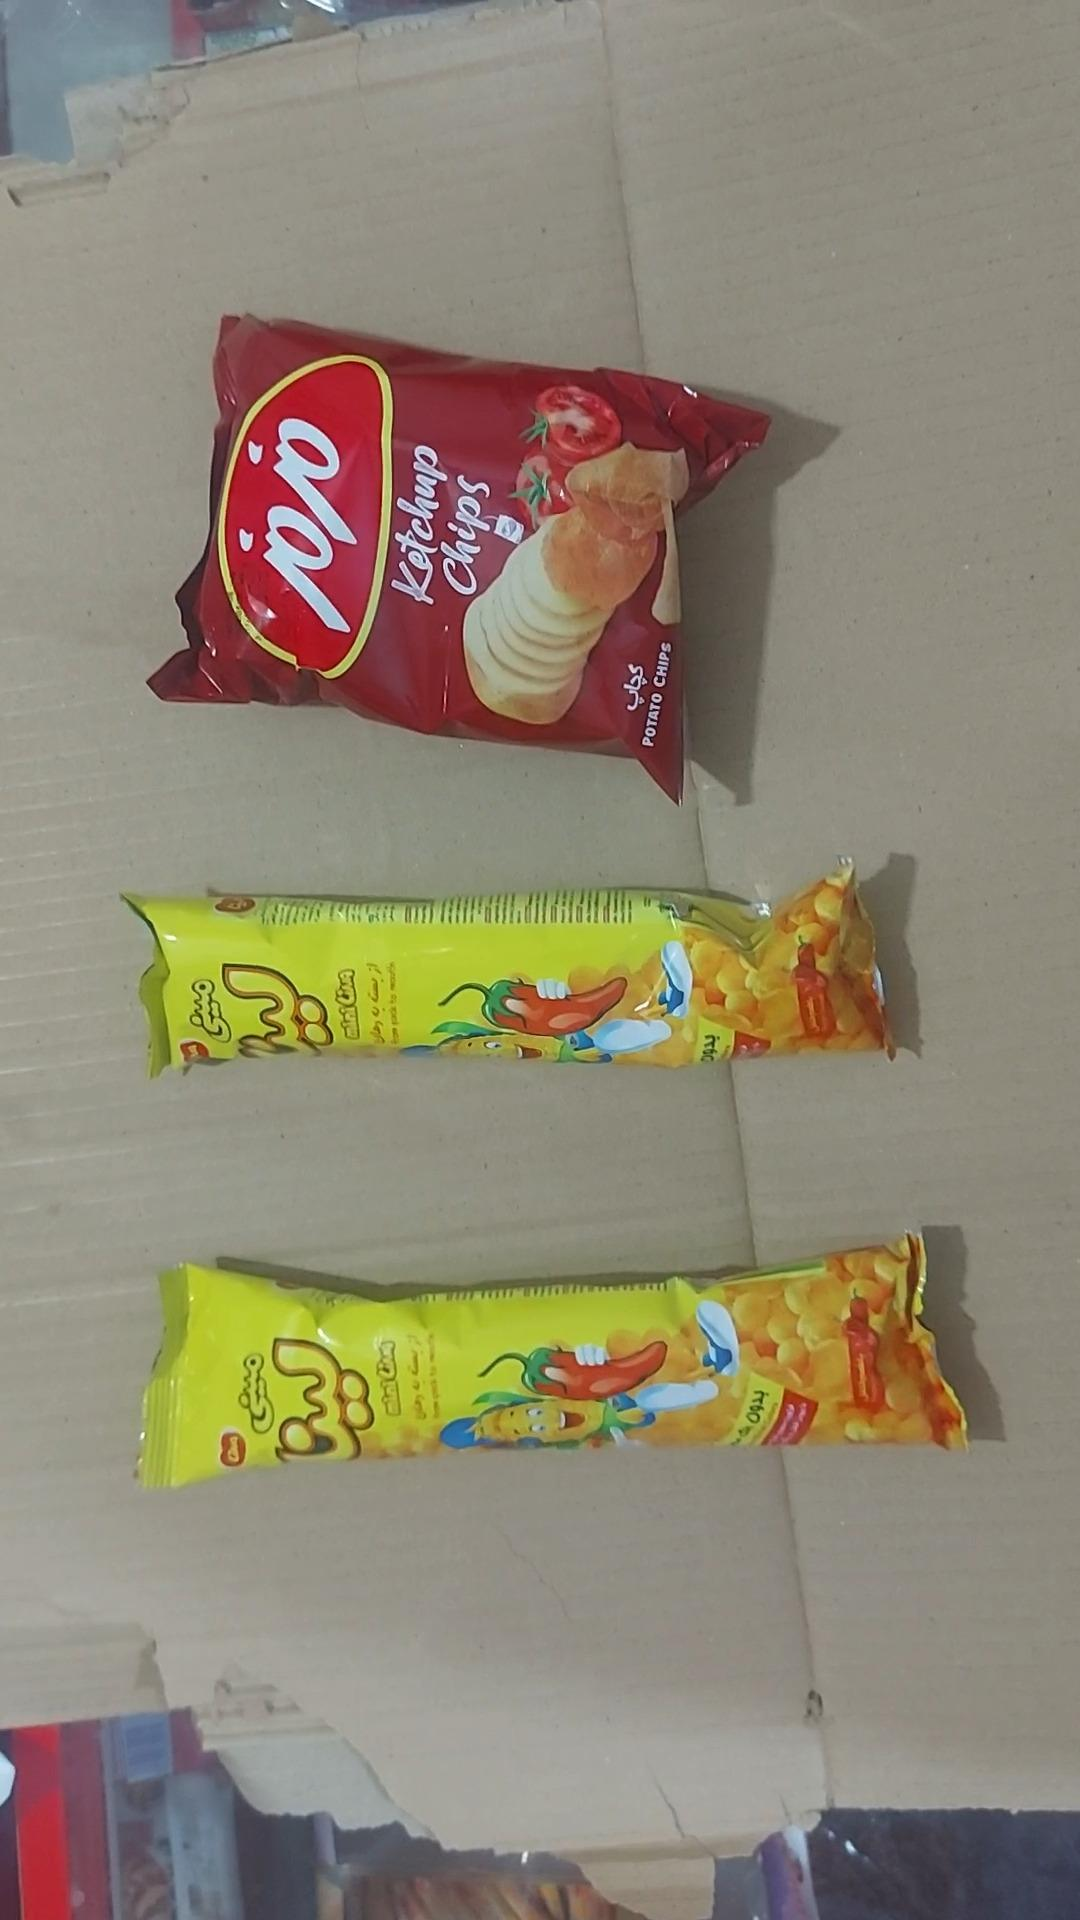Maz Maz ketchup chips: (149, 316, 769, 800)
Mini Lina: (137, 1236, 968, 1487), (124, 865, 894, 1075)
